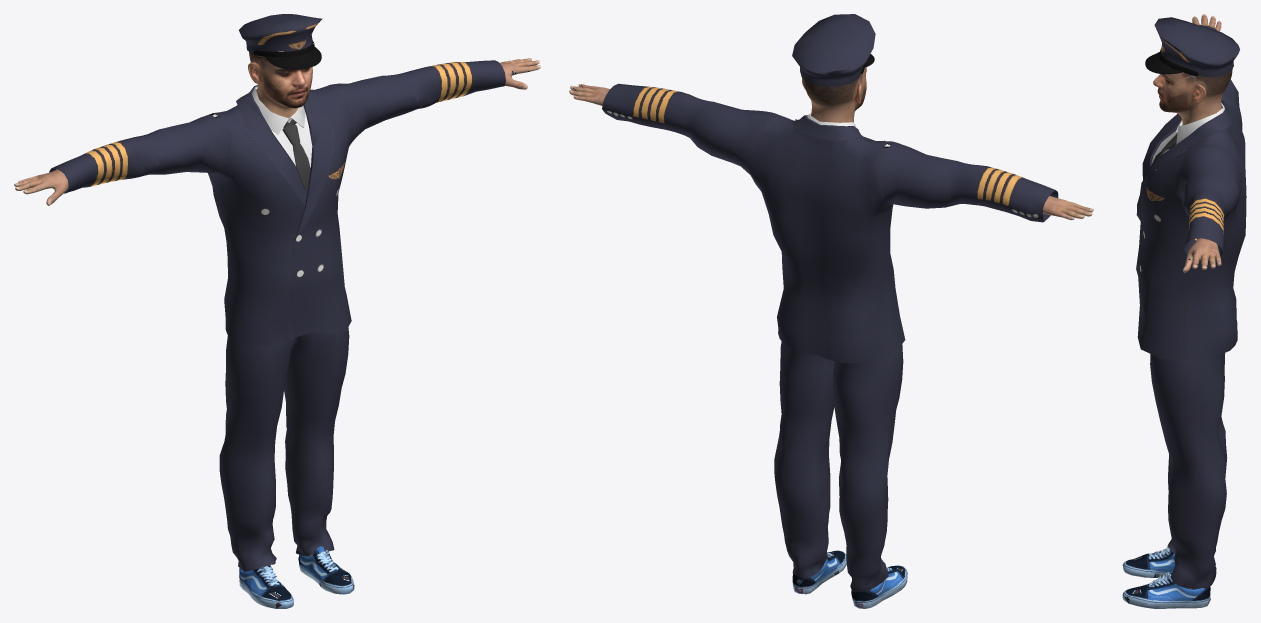
Rendered from PILOT 01.fbx.
3 views of the same model, side by side, from view 1: azimuth 30°, elevation 25°; view 2: azimuth 150°, elevation 25°; view 3: azimuth 270°, elevation 25° (orthographic).
Visible parts, largest first — view 1: Propshop; view 2: Propshop; view 3: Propshop.
Boxes of the visible parts, box(x1,y1,x2,y2) form: Propshop: box(14, 14, 540, 608); Propshop: box(569, 14, 1093, 608); Propshop: box(1122, 14, 1246, 608).
Bounding box in the file's own units: 183 × 190 × 37.73.
Materials: 3 (3 with a texture image).
